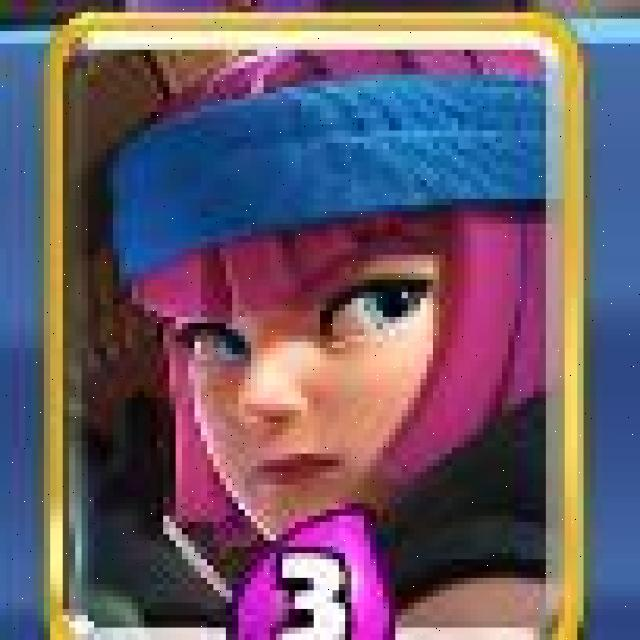Firecracker: (48, 15, 587, 640)
